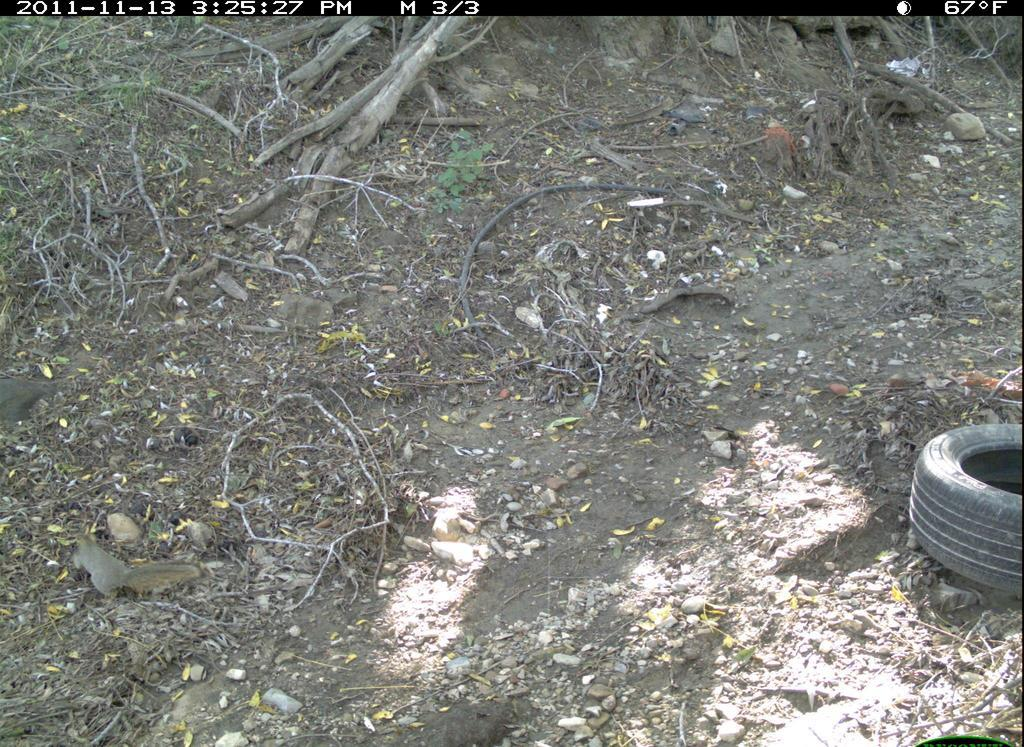squirrel: (67, 527, 209, 614)
